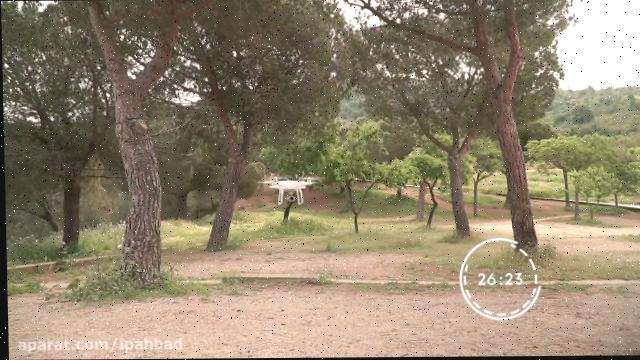drone: (253, 169, 326, 206)
